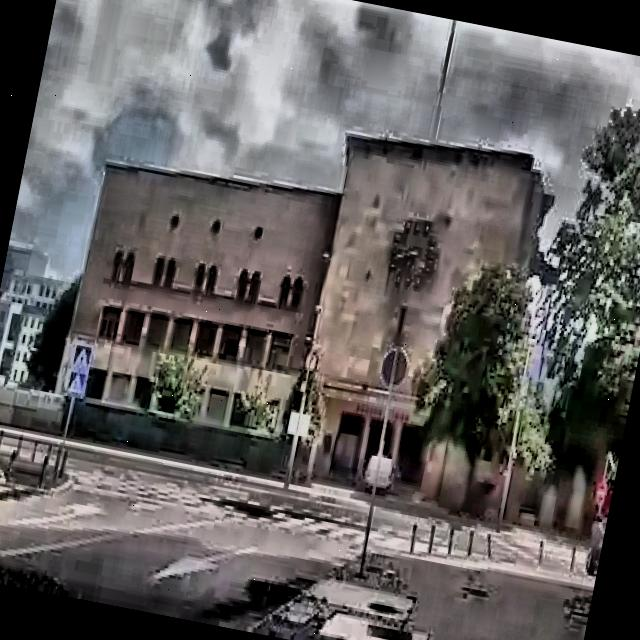old railway: (40, 68, 575, 524)
